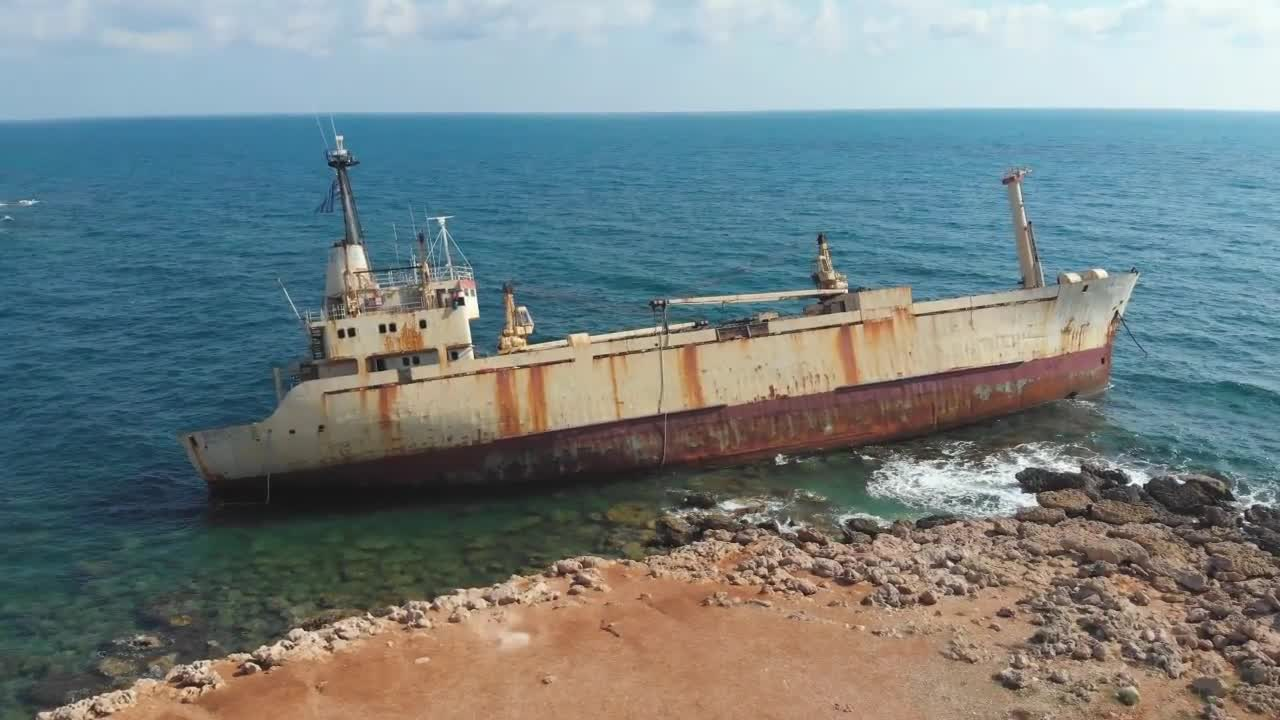rust: (492, 369, 558, 429), (831, 326, 865, 383), (369, 389, 409, 437), (673, 349, 705, 404), (1049, 323, 1121, 345), (604, 364, 629, 417), (871, 317, 917, 338), (388, 323, 422, 351)
